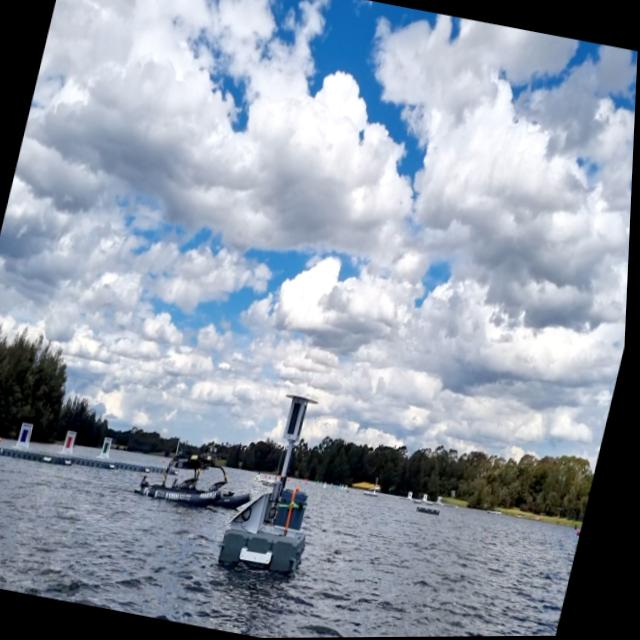led: (289, 400, 307, 440)
